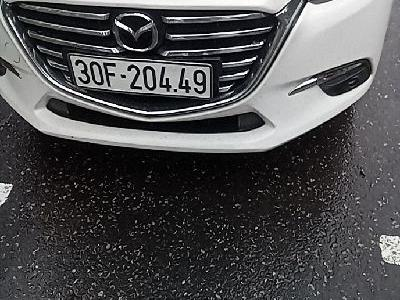lisence: (65, 51, 214, 101)
